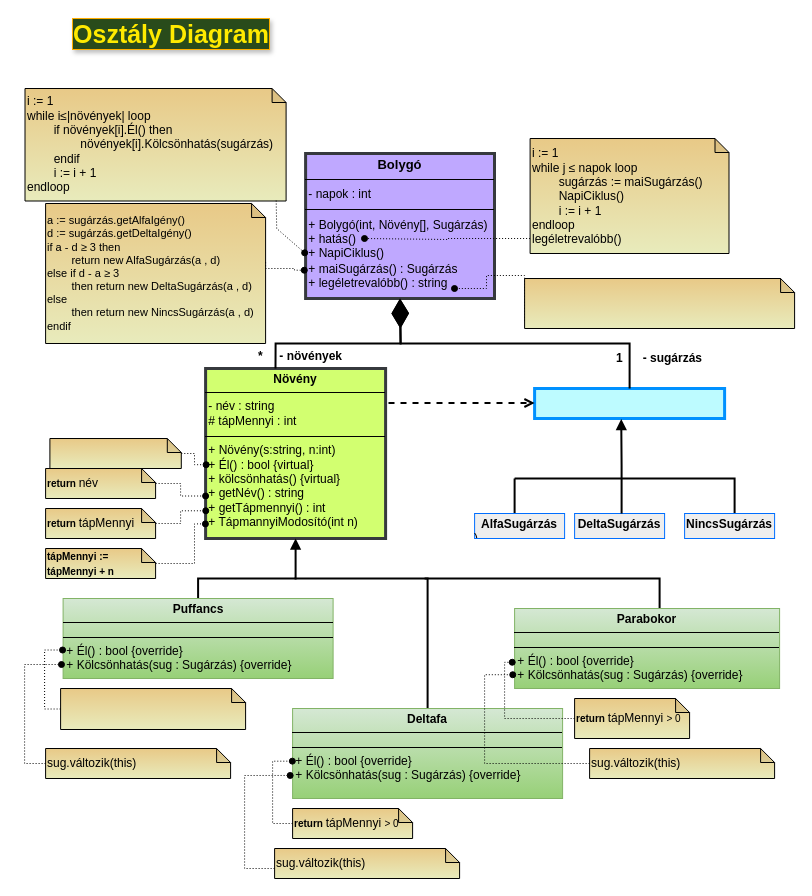
Some shapes in this 812 by 896 pixel diagram are drawn without their labels. Here are the shapes that lost their labels. From the top down, the centre of each, then its label:
At pixel 659 303: "ind := MAX e in növények e.getTápmennyi() e.Él() return növények[ind].getNév()".
At pixel 629 403: "Sugárzás".
At pixel 115 453: "név := s, tápMennyi := n".
At pixel 153 709: "return ( tápMennyi < 10 and tápMennyi > 0 )".
